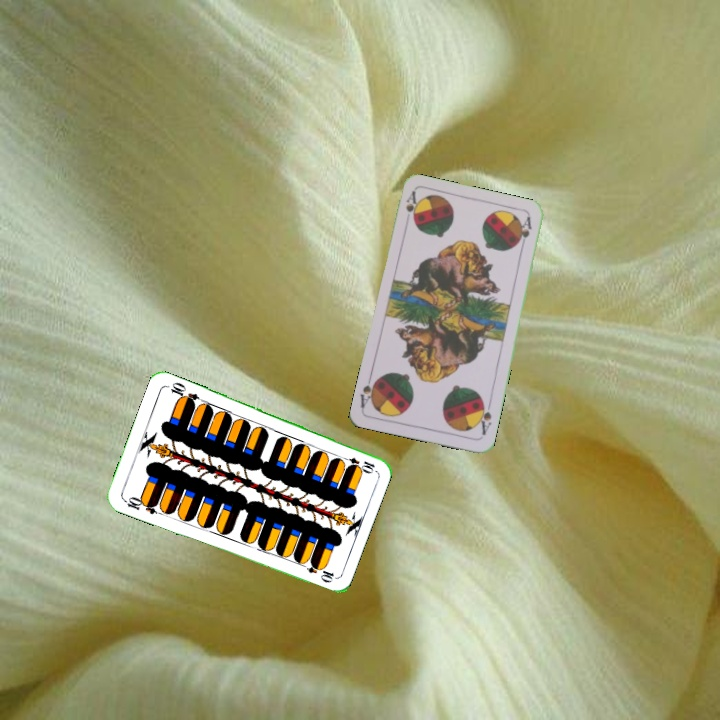E10: (120, 492, 160, 517), (337, 452, 377, 474)
SA: (474, 397, 494, 438), (402, 188, 421, 225)
